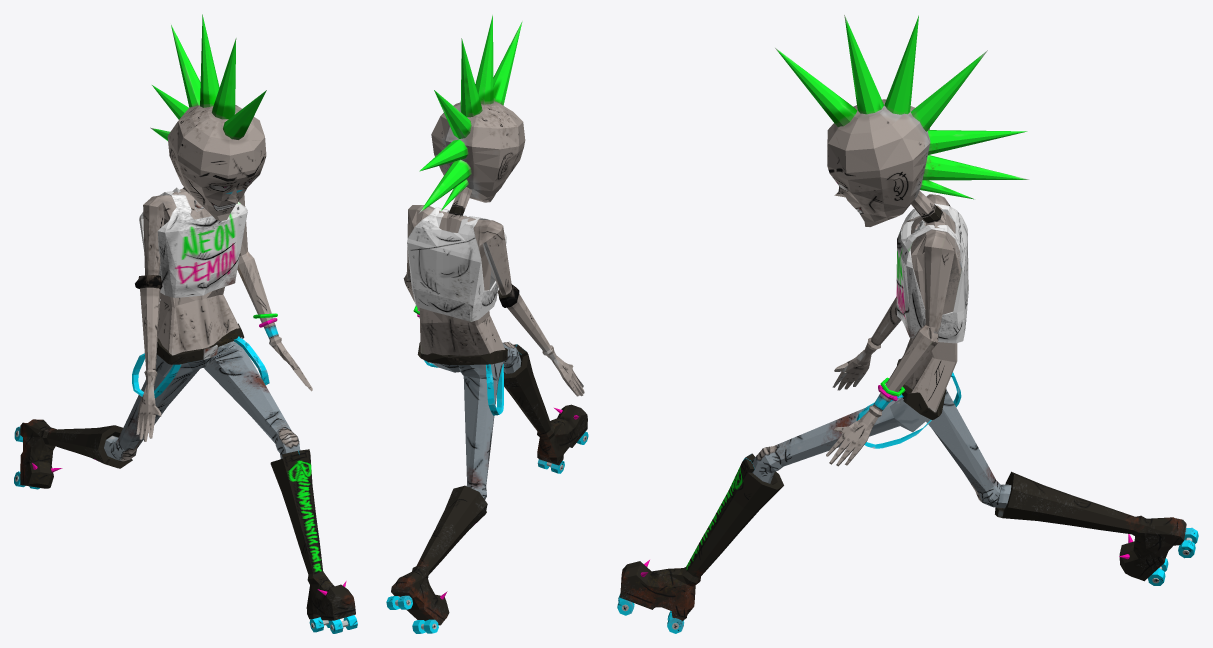
The model's file is punkAnimation_000002.obj.
The picture shows the model from 3 angles, left to right: view 1: azimuth 30°, elevation 25°; view 2: azimuth 150°, elevation 25°; view 3: azimuth 270°, elevation 25°; orthographic projection. The views are drawn at different scales.
Visible parts, largest first — view 1: Cube.004_Cube.003; view 2: Cube.004_Cube.003; view 3: Cube.004_Cube.003.
Boxes of the visible parts, left/top/right/bottom form: Cube.004_Cube.003: left=14, top=14, right=357, bottom=633; Cube.004_Cube.003: left=386, top=15, right=588, bottom=633; Cube.004_Cube.003: left=617, top=15, right=1198, bottom=633.
Bounding box in the file's own units: 2.08 × 6.39 × 5.53.
